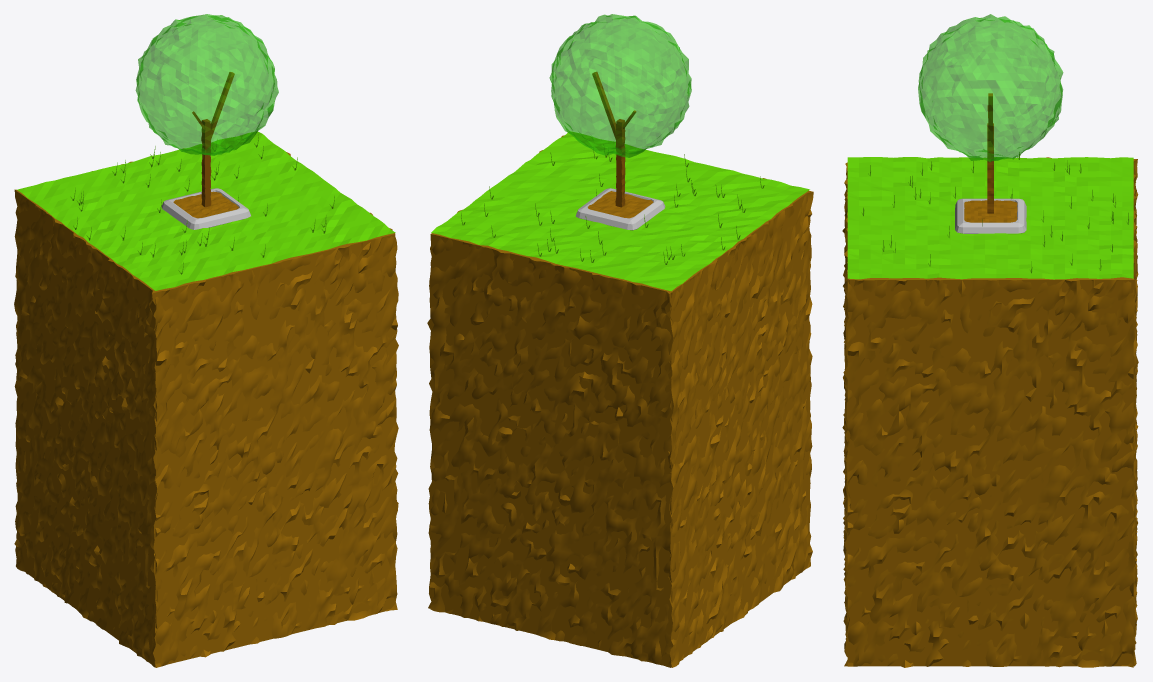
The model's file is Tree.glb.
3 renders of one model, left to right at view 1: azimuth 30°, elevation 25°; view 2: azimuth 150°, elevation 25°; view 3: azimuth 270°, elevation 25°, orthographic. The views are drawn at different scales.
Parts seen in each view (by area): view 1: Куб.3, Куб.4, Плоскость, Сфера, Куб (×2), Плоскость.1; view 2: Куб.3, Куб.4, Плоскость, Сфера, Куб (×2), Плоскость.1; view 3: Куб.4, Куб.3, Плоскость, Сфера, Куб (×2), Плоскость.1.
Boxes of the visible parts, left/top/right/bottom form: Куб.3: left=14, top=152, right=398, bottom=667; Куб.4: left=14, top=161, right=397, bottom=667; Плоскость: left=17, top=131, right=395, bottom=290; Сфера: left=135, top=14, right=278, bottom=155; Куб (×2): left=161, top=119, right=250, bottom=229; Плоскость.1: left=173, top=191, right=238, bottom=218; Куб.3: left=427, top=135, right=813, bottom=667; Куб.4: left=429, top=178, right=811, bottom=667; Плоскость: left=431, top=131, right=809, bottom=291; Сфера: left=549, top=14, right=691, bottom=157; Куб (×2): left=575, top=119, right=665, bottom=230; Плоскость.1: left=588, top=191, right=653, bottom=218; Куб.4: left=842, top=159, right=1138, bottom=666; Куб.3: left=847, top=157, right=1133, bottom=667; Плоскость: left=847, top=157, right=1133, bottom=279; Сфера: left=918, top=14, right=1063, bottom=162; Куб (×2): left=955, top=123, right=1026, bottom=233; Плоскость.1: left=964, top=200, right=1017, bottom=222.
Bounding box in the file's own units: 415 × 898 × 415.
